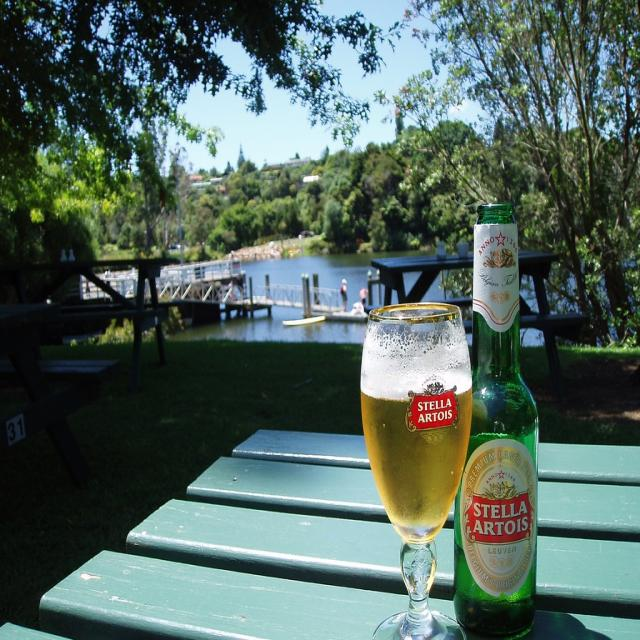stellaartois: (464, 448, 536, 591), (403, 367, 465, 449)
